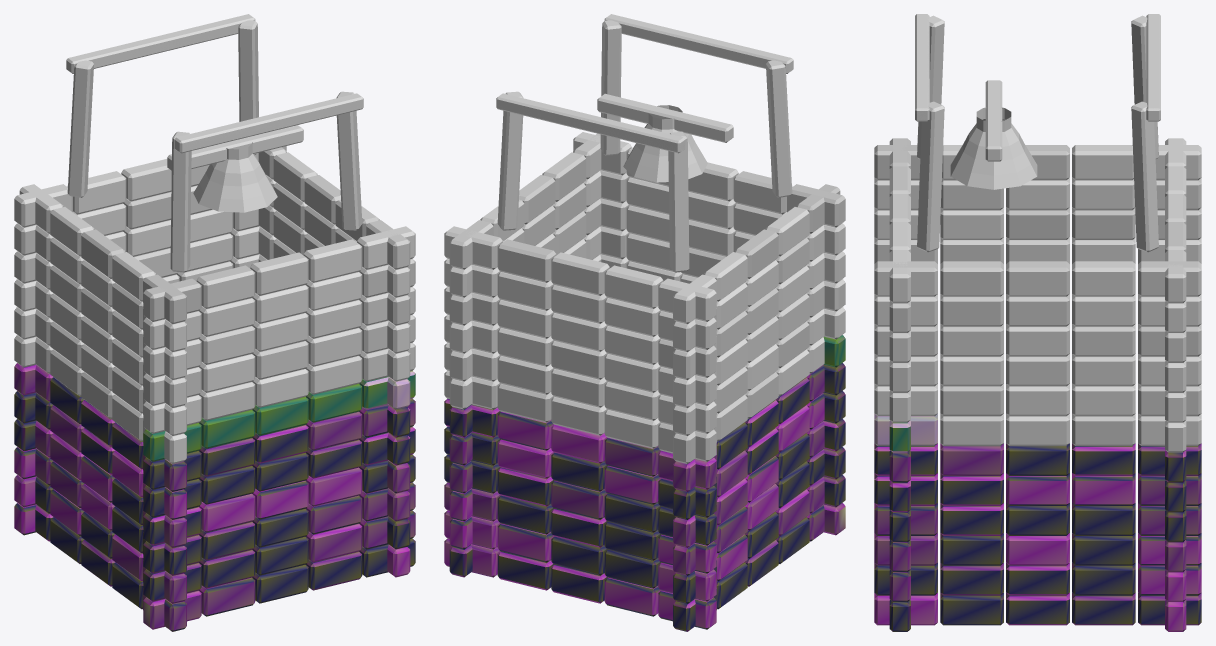
File: Tower_Bell.fbx
3 views of the same model, side by side, from view 1: azimuth 30°, elevation 25°; view 2: azimuth 150°, elevation 25°; view 3: azimuth 270°, elevation 25° (orthographic). The views are drawn at different scales.
Visible parts, largest first — view 1: Tower_Bell; view 2: Tower_Bell; view 3: Tower_Bell.
Boxes of the visible parts, x1,y1,x2,y2 form: Tower_Bell: [14, 14, 415, 631]; Tower_Bell: [444, 14, 845, 631]; Tower_Bell: [874, 14, 1201, 631].
Bounding box in the file's own units: 447 × 757 × 447.
